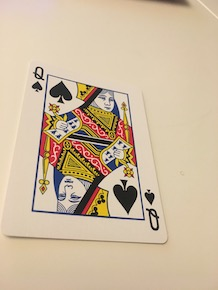QueenOfSpades: (1, 59, 174, 247)
